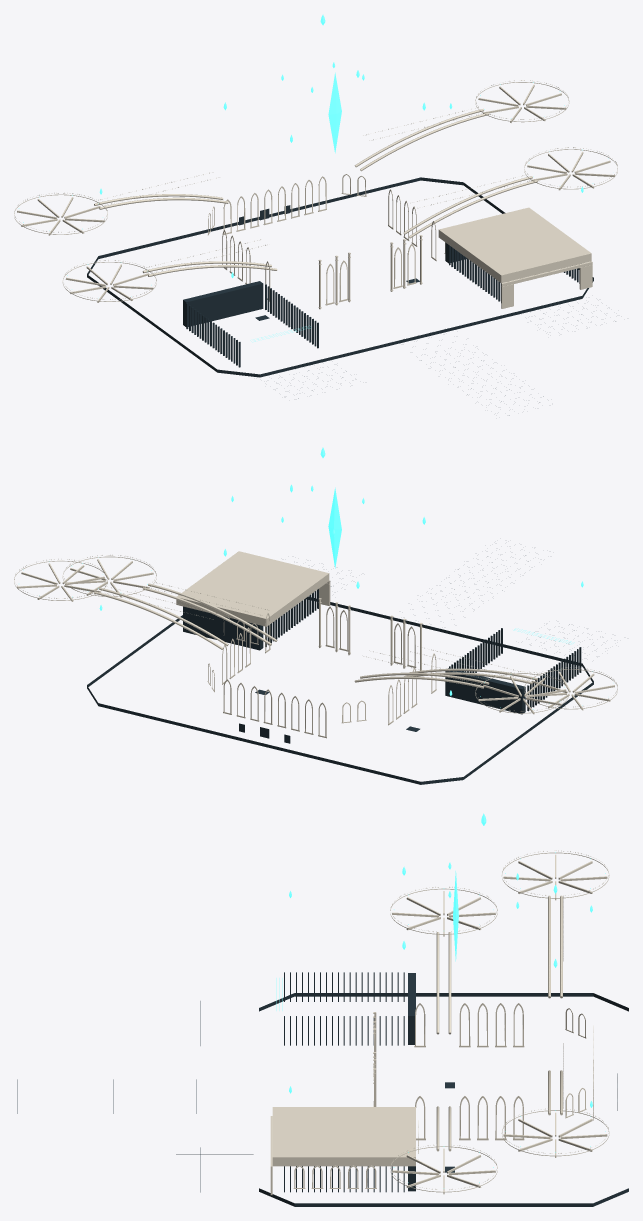
Rendered from Spaceport-02.glb.
3 views of the same model, one above another, from view 1: azimuth 30°, elevation 25°; view 2: azimuth 150°, elevation 25°; view 3: azimuth 270°, elevation 25° (orthographic). The views are drawn at different scales.
Visible parts, largest first — view 1: NSP01.Native.2.3.Dark, NSP01.Native.2.0.Ivory, NSP01.Native.2.1.Ivory, NSP01.Native.2.2.Crystal; view 2: NSP01.Native.2.3.Dark, NSP01.Native.2.0.Ivory, NSP01.Native.2.1.Ivory, NSP01.Native.2.2.Crystal; view 3: NSP01.Native.2.1.Ivory, NSP01.Native.2.0.Ivory, NSP01.Native.2.3.Dark, NSP01.Native.2.2.Crystal.
Part boxes in pixels (bbox=[...]): NSP01.Native.2.3.Dark: bbox=[87, 177, 615, 415]; NSP01.Native.2.0.Ivory: bbox=[14, 80, 617, 309]; NSP01.Native.2.1.Ivory: bbox=[208, 174, 592, 308]; NSP01.Native.2.2.Crystal: bbox=[18, 14, 608, 342]; NSP01.Native.2.3.Dark: bbox=[87, 555, 593, 784]; NSP01.Native.2.0.Ivory: bbox=[14, 555, 617, 738]; NSP01.Native.2.1.Ivory: bbox=[176, 551, 436, 734]; NSP01.Native.2.2.Crystal: bbox=[23, 447, 592, 709]; NSP01.Native.2.1.Ivory: bbox=[270, 1003, 593, 1195]; NSP01.Native.2.0.Ivory: bbox=[373, 850, 609, 1194]; NSP01.Native.2.3.Dark: bbox=[17, 972, 628, 1206]; NSP01.Native.2.2.Crystal: bbox=[276, 813, 605, 1188].
Size of the model in its own units: 720 by 348 by 617.
